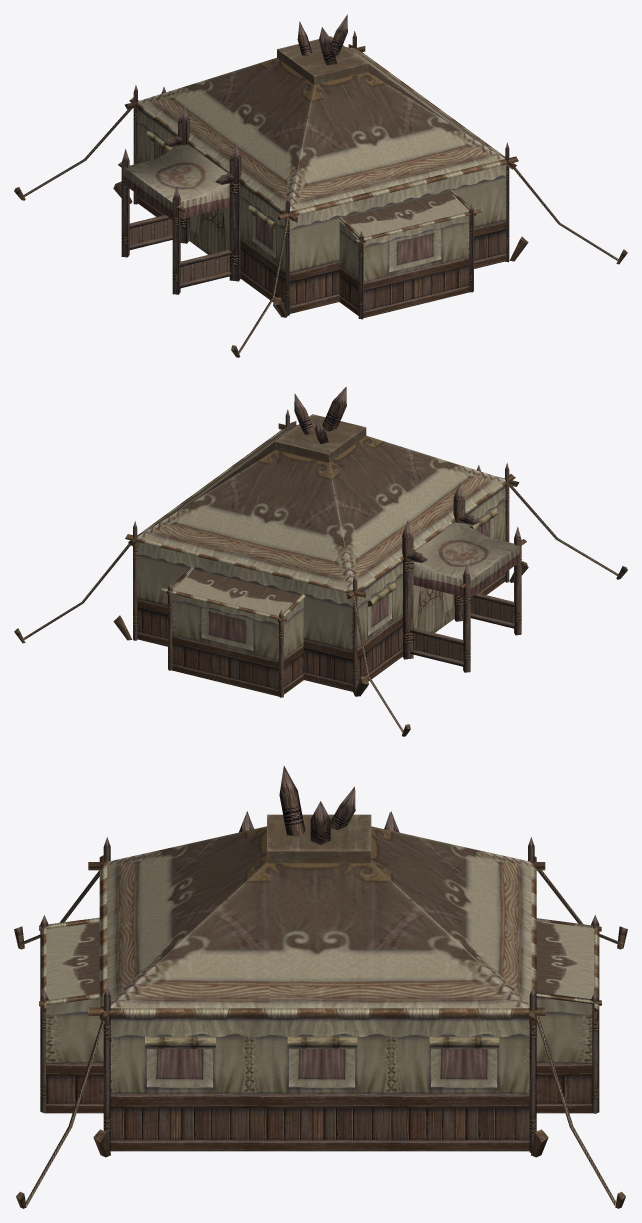
Rendered from zhangpeng_yc_40.FBX.
3 views of the same model, one above another, from view 1: azimuth 30°, elevation 25°; view 2: azimuth 150°, elevation 25°; view 3: azimuth 270°, elevation 25° (orthographic). The views are drawn at different scales.
Parts seen in each view (by area): view 1: zhangpeng_yc_40; view 2: zhangpeng_yc_40; view 3: zhangpeng_yc_40.
Boxes of the visible parts, x1=… form: zhangpeng_yc_40: x1=14, y1=14, x2=627, y2=357; zhangpeng_yc_40: x1=14, y1=387, x2=627, y2=736; zhangpeng_yc_40: x1=14, y1=766, x2=627, y2=1208.
Size of what is drawn, in the model's own units: 1596 by 838 by 1530.
